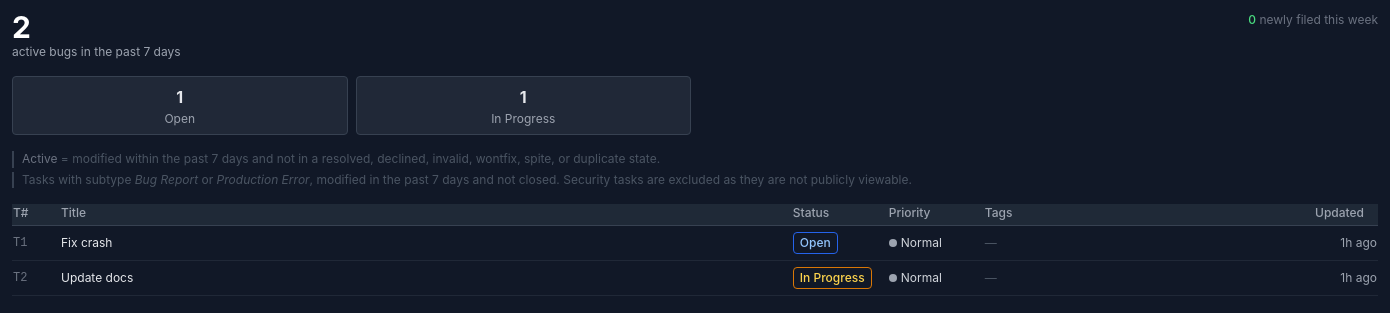
Scenario: BugsPanel › status filter cards › filters the table when a status card is clicked
This screenshot has width=1390, height=313.
What coordinates should you click on to do the following:
click the button titled "Filter to In Progress tasks"
I would click on:
 (523, 106)
Its box is [356,76,691,135].
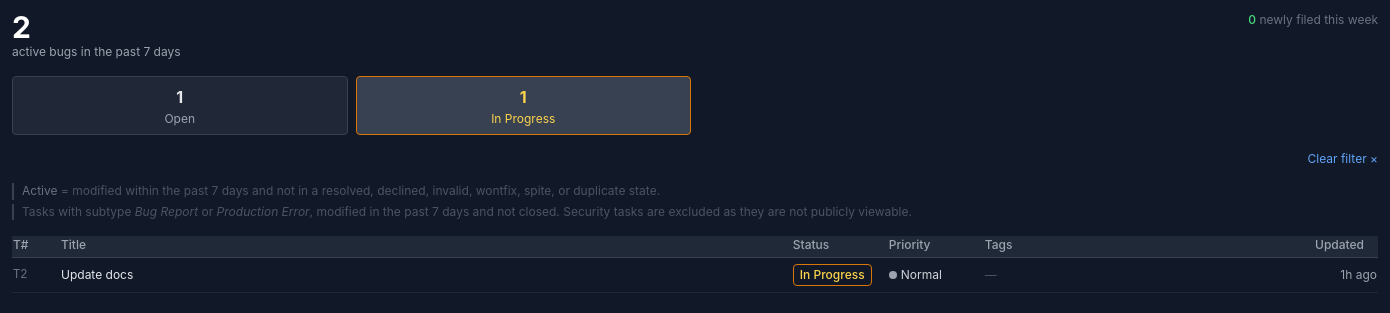
Expected: the link "T2" is shown, [13,268,27,282]
Expected: the link "T1" is gone
